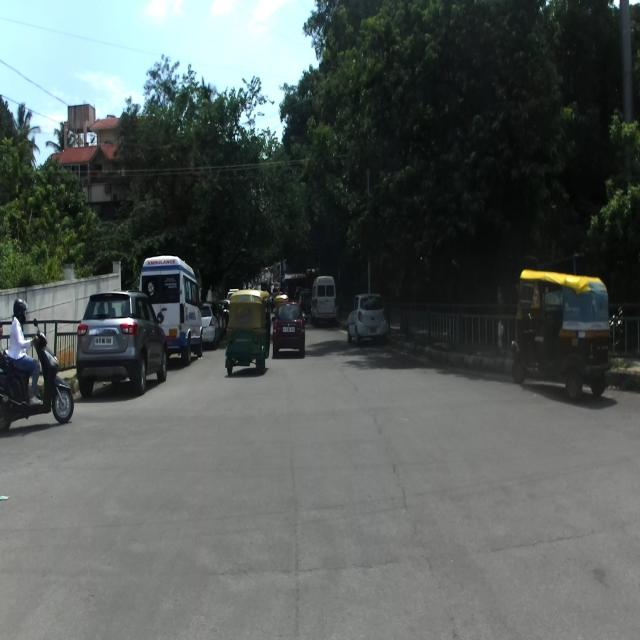Car_Maruti-Suzuki: (76, 290, 168, 398)
autorickshaw: (510, 268, 613, 400)
scooter: (0, 318, 74, 432)
